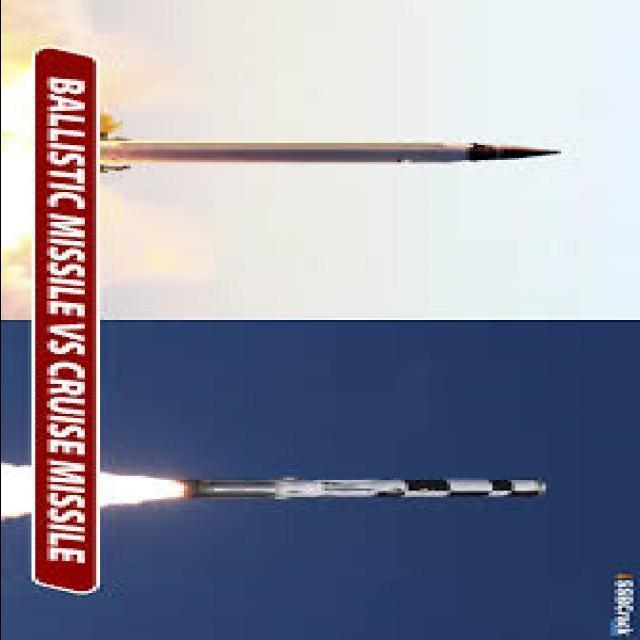Missile: (97, 136, 567, 166), (164, 471, 565, 504)
